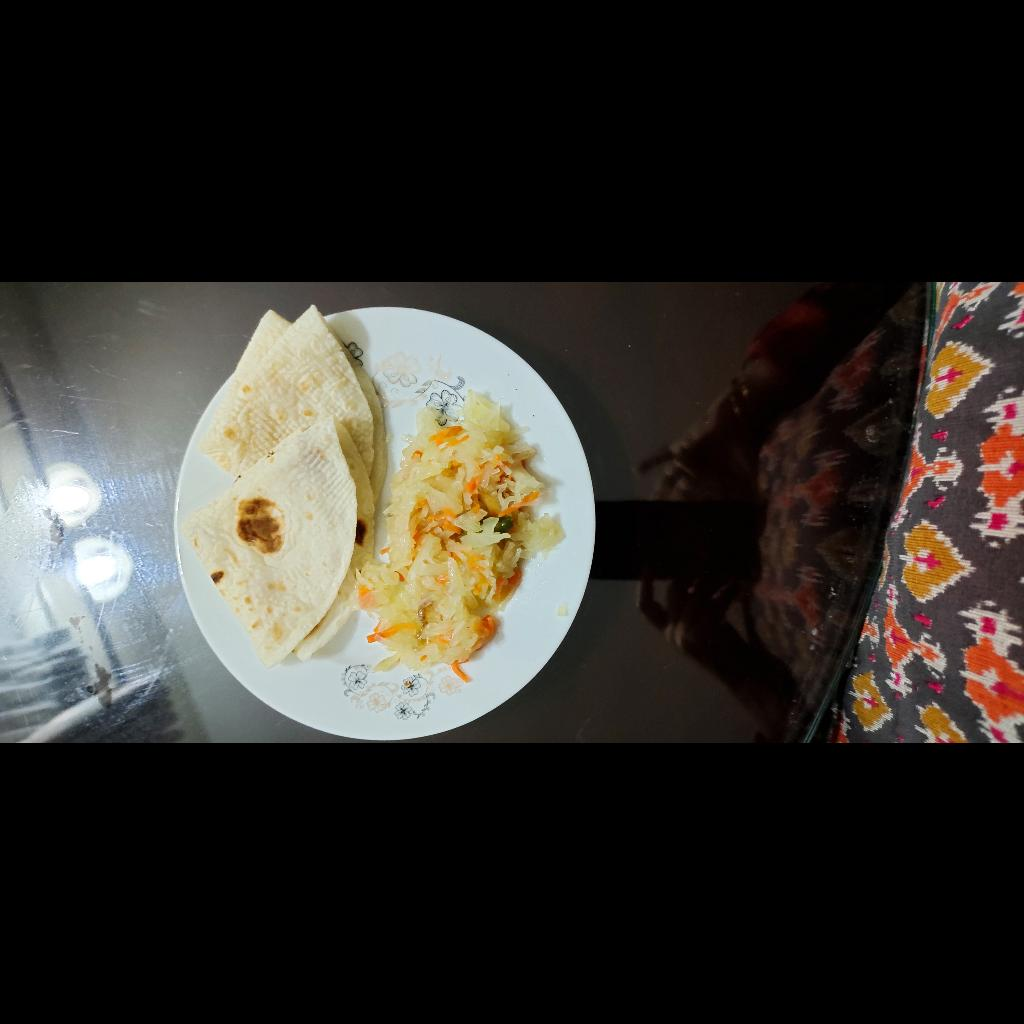ruti: (69, 454, 443, 665)
vegetable: (58, 639, 359, 850)
